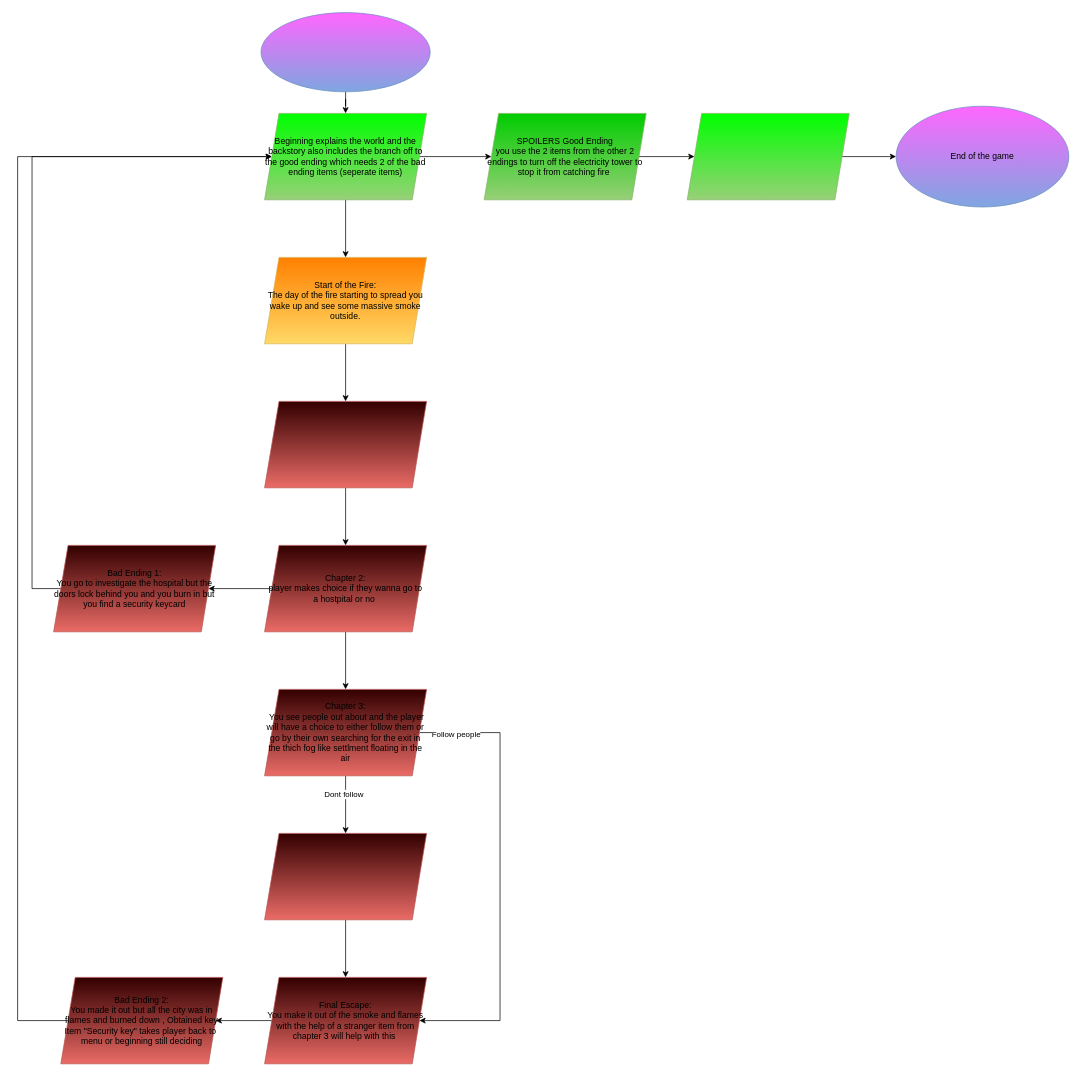
Image size: 1081x1076. Some labels were removed from this diagram. Each missing label, with the centre of its shape:
AFTERWORDS: Thanking the eplayer and concratulating on compleating the game: point 768,156
Chapter 1: The fire starts to spread so you escape any means nessesary: point 345,444
Chapter 4: (OPTIONAL) you wander around for a easier time in the last chapter: point 345,876
Start of the game: point 345,52
